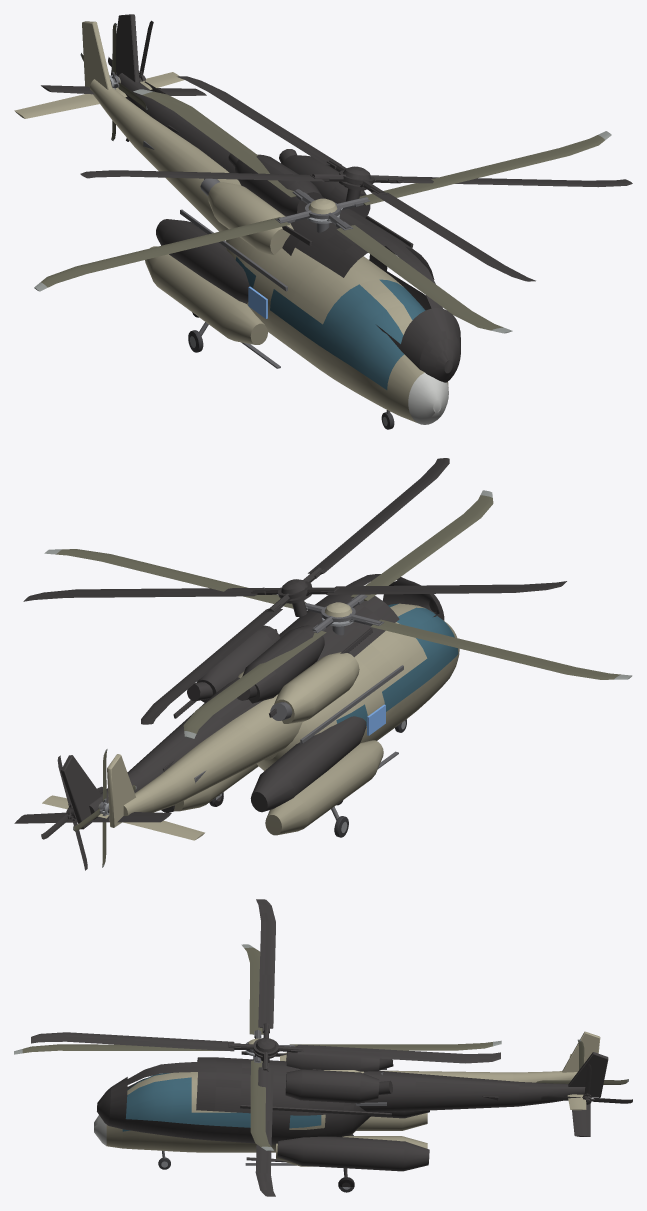
Rendered from helicopter__as532u2_cougar.glb.
3 renders of one model, top to bottom at view 1: azimuth 30°, elevation 25°; view 2: azimuth 150°, elevation 25°; view 3: azimuth 270°, elevation 25°, orthographic. The views are drawn at different scales.
Parts seen in each view (by area): view 1: Fuselage_Mesh, Wreck, Rotor_Main_Mesh, Engines_Mesh, Rotor_Tail_Mesh; view 2: Wreck, Fuselage_Mesh, Rotor_Main_Mesh, Engines_Mesh, Rotor_Tail_Mesh; view 3: Wreck, Fuselage_Mesh, Rotor_Main_Mesh.
Part boxes in pixels (x1,y1,x2,y2): Fuselage_Mesh: (14, 21, 448, 424); Wreck: (41, 14, 632, 382); Rotor_Main_Mesh: (34, 89, 611, 333); Engines_Mesh: (200, 178, 293, 255); Rotor_Tail_Mesh: (80, 23, 147, 140); Wreck: (14, 458, 566, 870); Fuselage_Mesh: (42, 603, 459, 840); Rotor_Main_Mesh: (44, 490, 632, 738); Engines_Mesh: (238, 652, 359, 723); Rotor_Tail_Mesh: (73, 749, 136, 867); Wreck: (31, 899, 632, 1196); Fuselage_Mesh: (94, 1031, 600, 1166); Rotor_Main_Mesh: (14, 944, 501, 1150).
Size of what is drawn, in the model's own units: 16.77 by 6.87 by 20.56.
